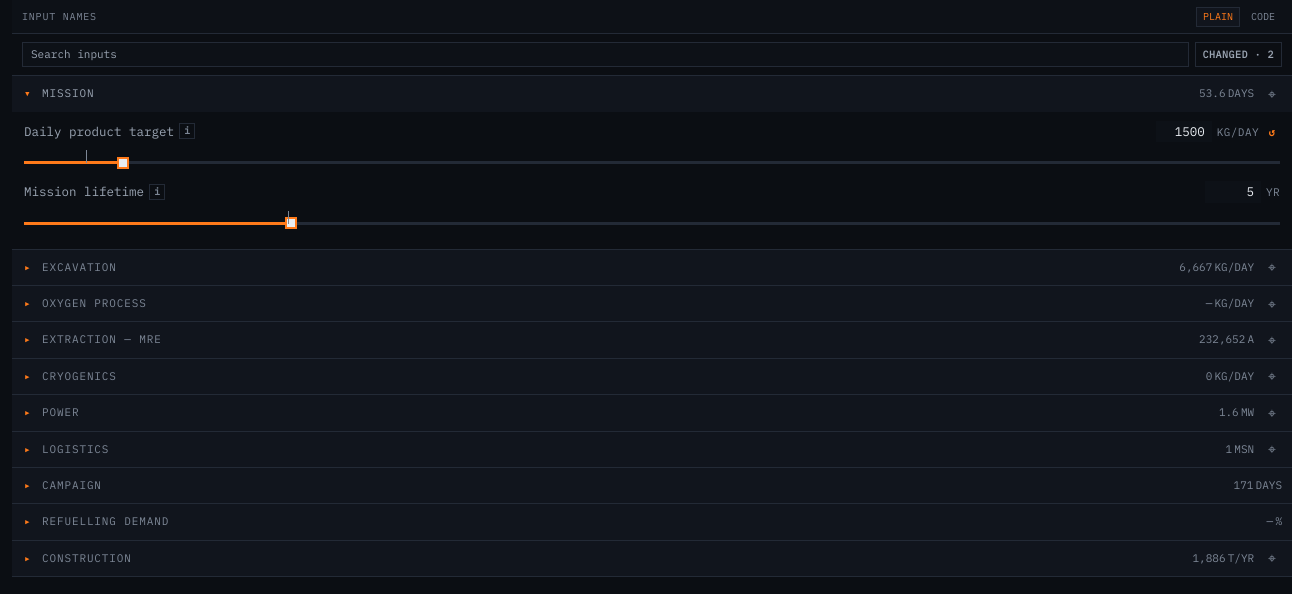
Test: control rail search, changed filter, and reset › lists only changed inputs and resets one from its row
What coordinates should you click on to do the following:
click the button "CHANGED · 2"
I would click on:
 (1238, 55)
Its box is 1194,42 -> 1282,67.
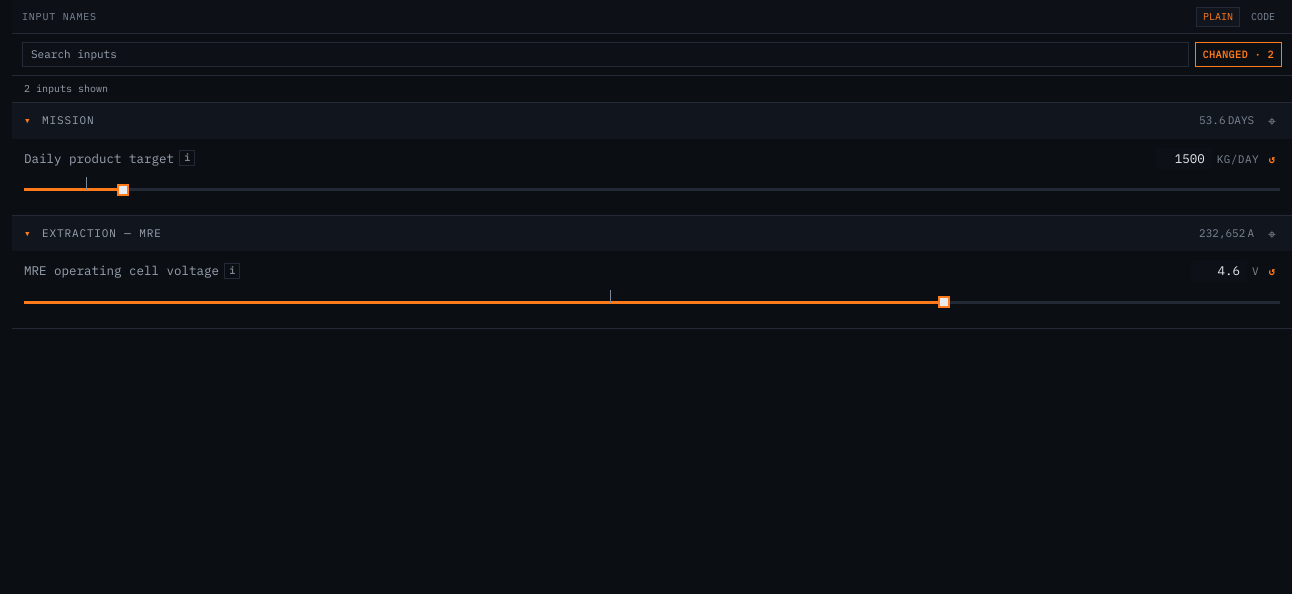
Now the button "CHANGED · 2" is pressed, box 1194,42 -> 1282,67
What coordinates should you click on to do the following:
click the button "↺" in the row of "MRE operating cell voltage"
I would click on:
 (1272, 272)
Its box is 1264,264 -> 1280,280.
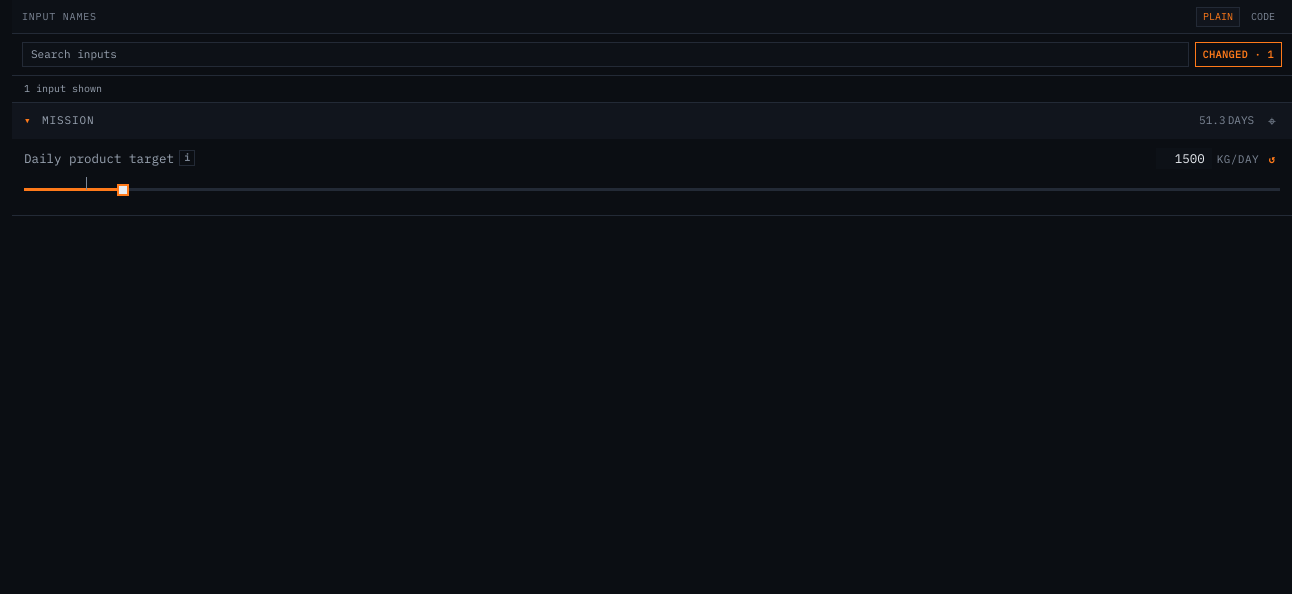
Expected: the button "↺" is shown, 1264,151 -> 1280,167
Now the button "CHANGED · 1" is shown, box 1194,42 -> 1282,67
